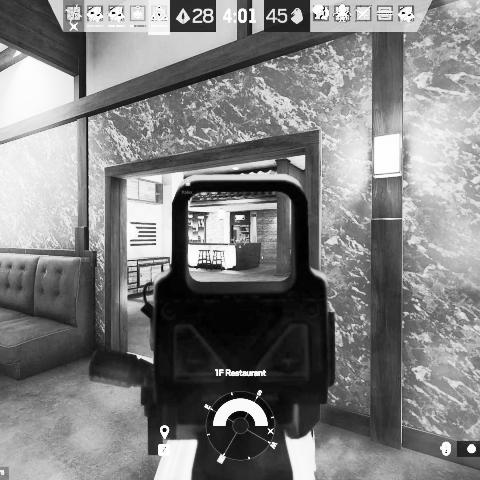Friend_label: (181, 178, 195, 194)
